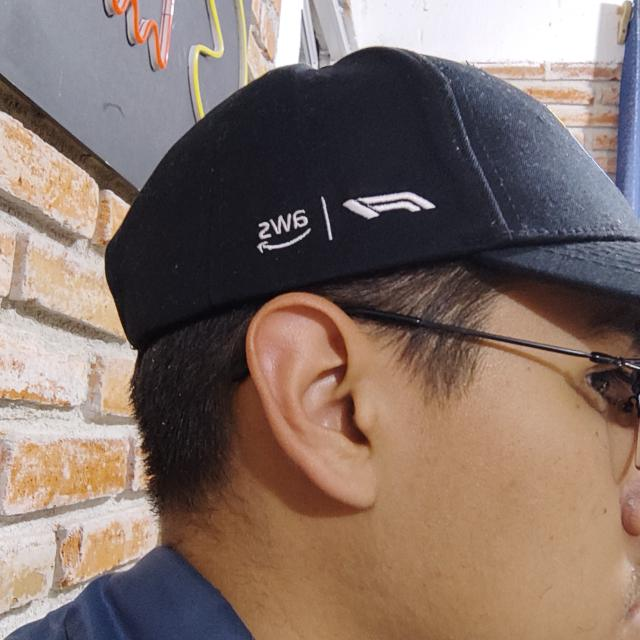ear: (246, 292, 376, 509)
